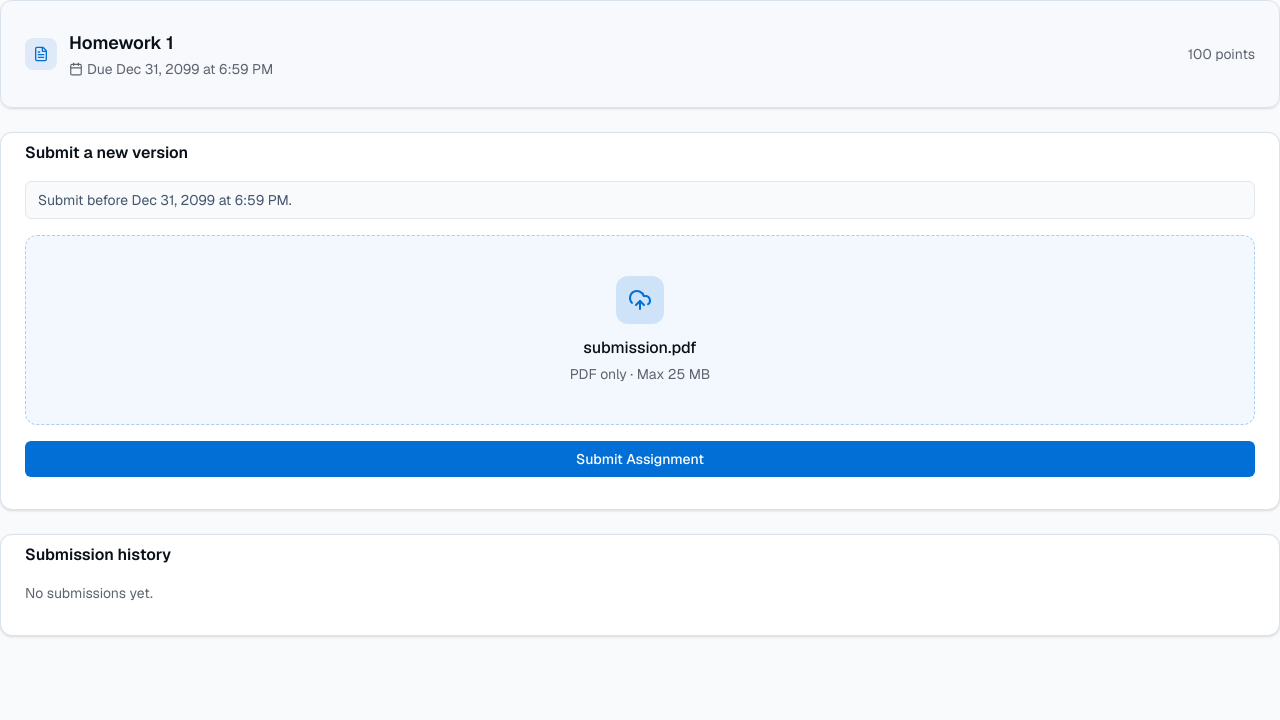
submitNewVersion › shows fallback error on network failure
This screenshot has width=1280, height=720.
Earlier steps of the test are not shown.
What coordinates should you click on to do the following:
click the button "Submit Assignment"
I would click on:
 (640, 459)
Its box is [25, 441, 1255, 477].
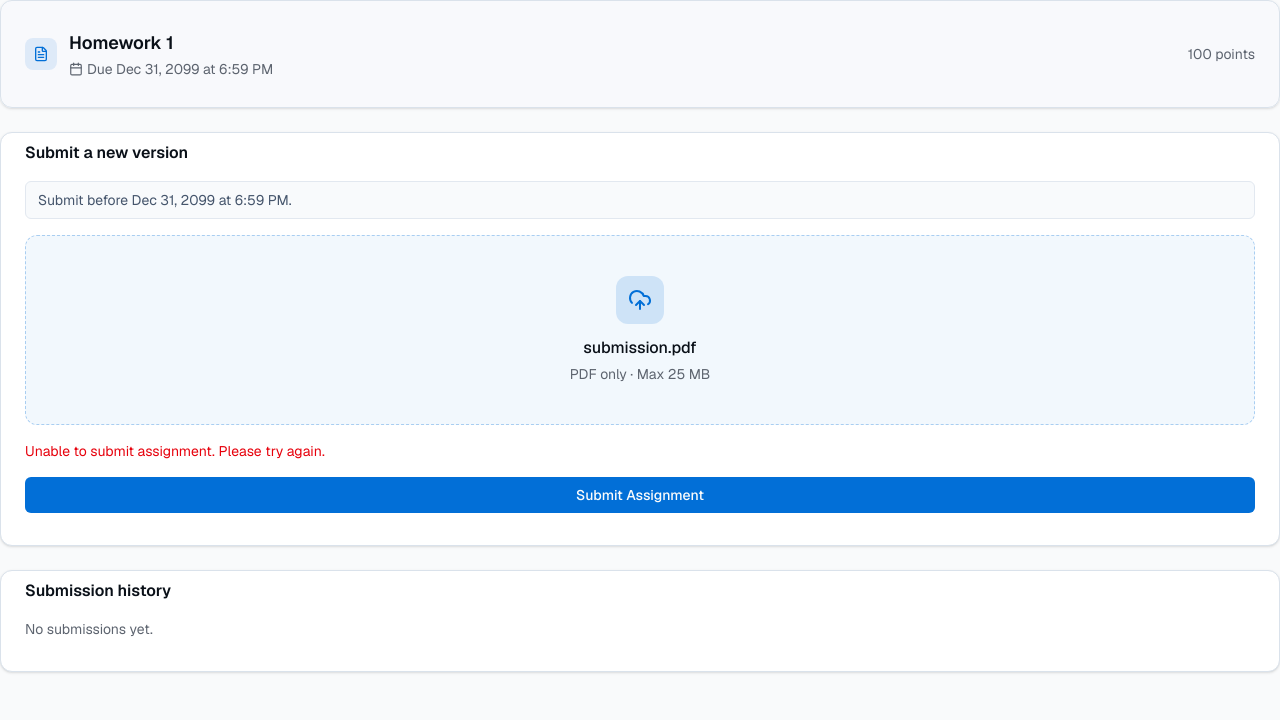
Check: the text "Unable to submit assignment. Please try again." is shown, box [25, 442, 325, 460]
